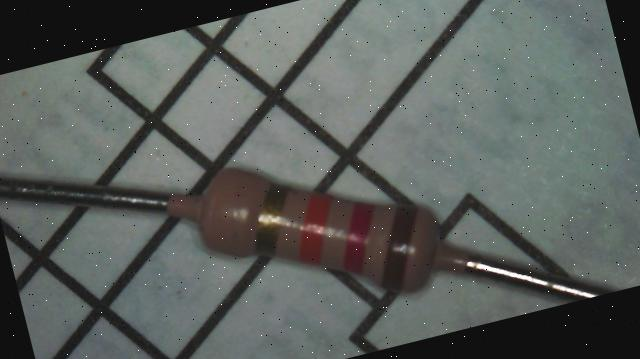brown: (364, 205, 432, 294)
gold: (240, 177, 306, 260)
orange: (289, 190, 346, 266)
red: (332, 198, 389, 275)
resistor: (156, 135, 462, 317)
